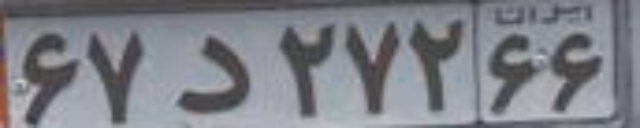2: (274, 22, 337, 118), (405, 17, 462, 111)
6: (17, 32, 80, 127), (547, 32, 606, 114), (488, 31, 536, 114)
7: (83, 29, 155, 123), (342, 20, 401, 113)
dal: (171, 34, 248, 115)
